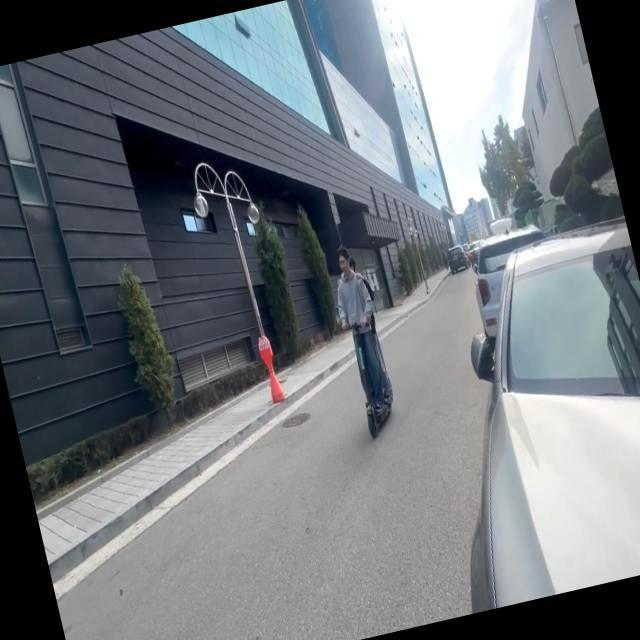bare_head: (333, 250, 350, 275), (344, 256, 361, 278)
human: (332, 250, 386, 412), (343, 257, 394, 405)
kickboard: (365, 384, 396, 445)
